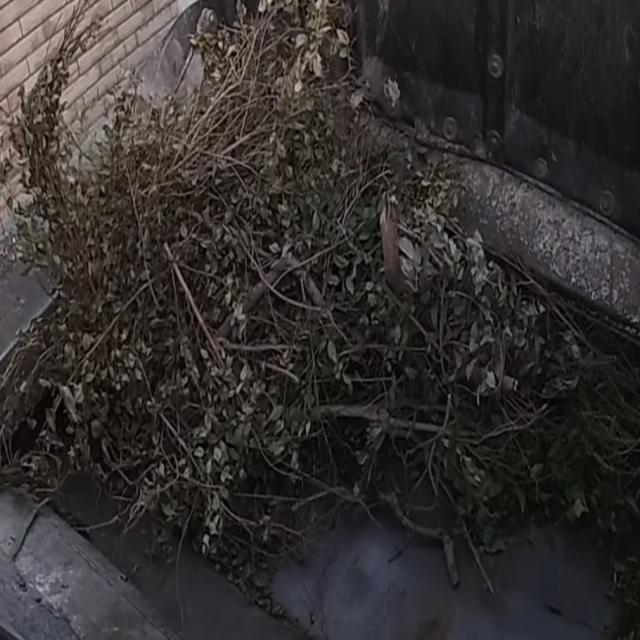yard: (8, 14, 621, 564)
